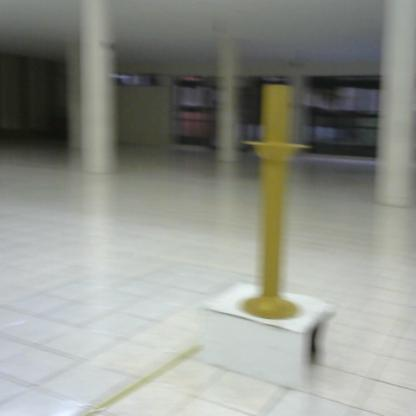pole: (228, 79, 317, 323)
